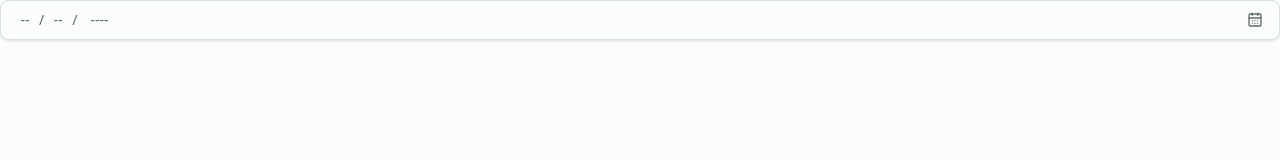
Test: DateField › writes a lone day or month digit with its zero
This screenshot has width=1280, height=160.
Type "5" into the field named "Day" at {"x": 25, "y": 20}, box [13, 10, 37, 30]
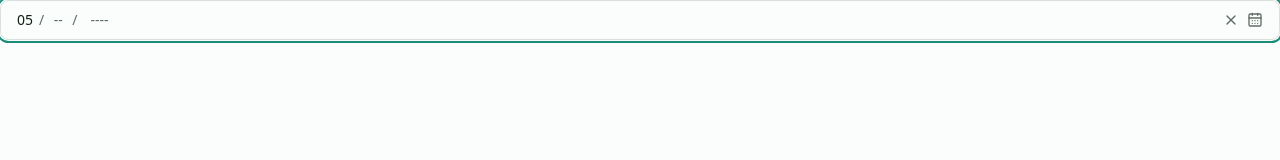
Now the field named "Day" holds "05", box [13, 10, 37, 30]
